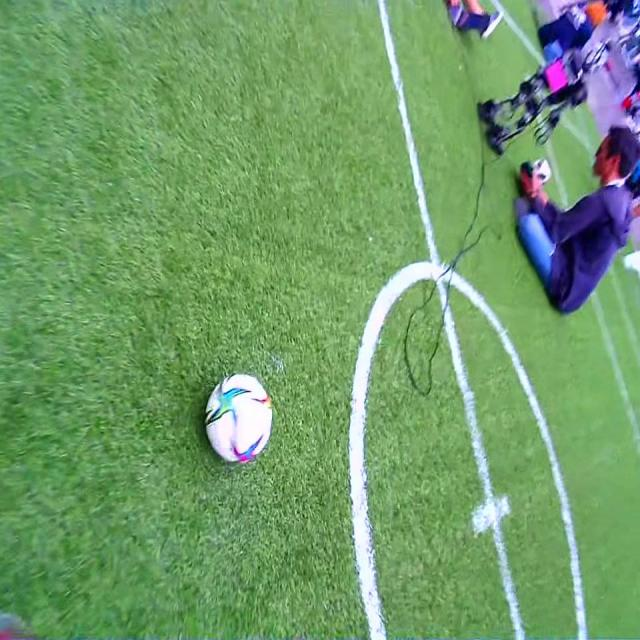ball: (209, 375, 272, 462)
